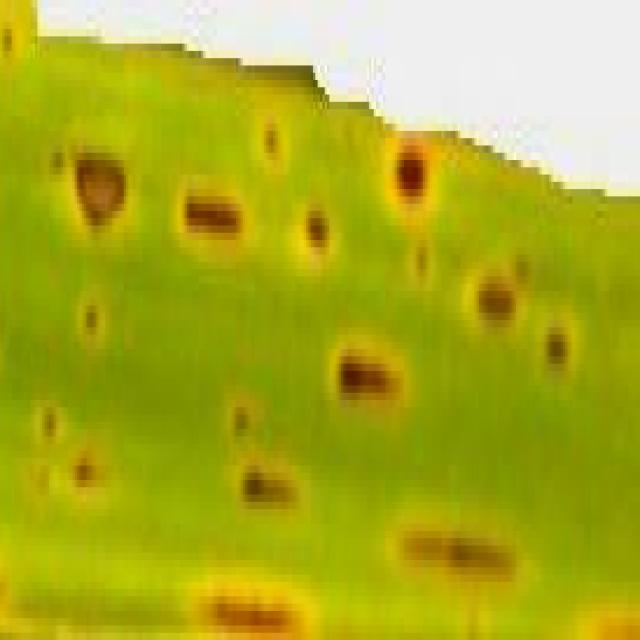Brown_Spot: (390, 494, 532, 574), (40, 124, 145, 232), (185, 568, 313, 640), (332, 313, 414, 422), (383, 102, 449, 233), (224, 428, 308, 516), (170, 168, 248, 248), (299, 138, 343, 276), (464, 262, 518, 334), (226, 349, 262, 451), (587, 574, 640, 640), (546, 284, 584, 372), (70, 276, 112, 342), (264, 94, 292, 182), (38, 371, 68, 436), (75, 429, 103, 495), (0, 7, 18, 58), (0, 284, 7, 372)
